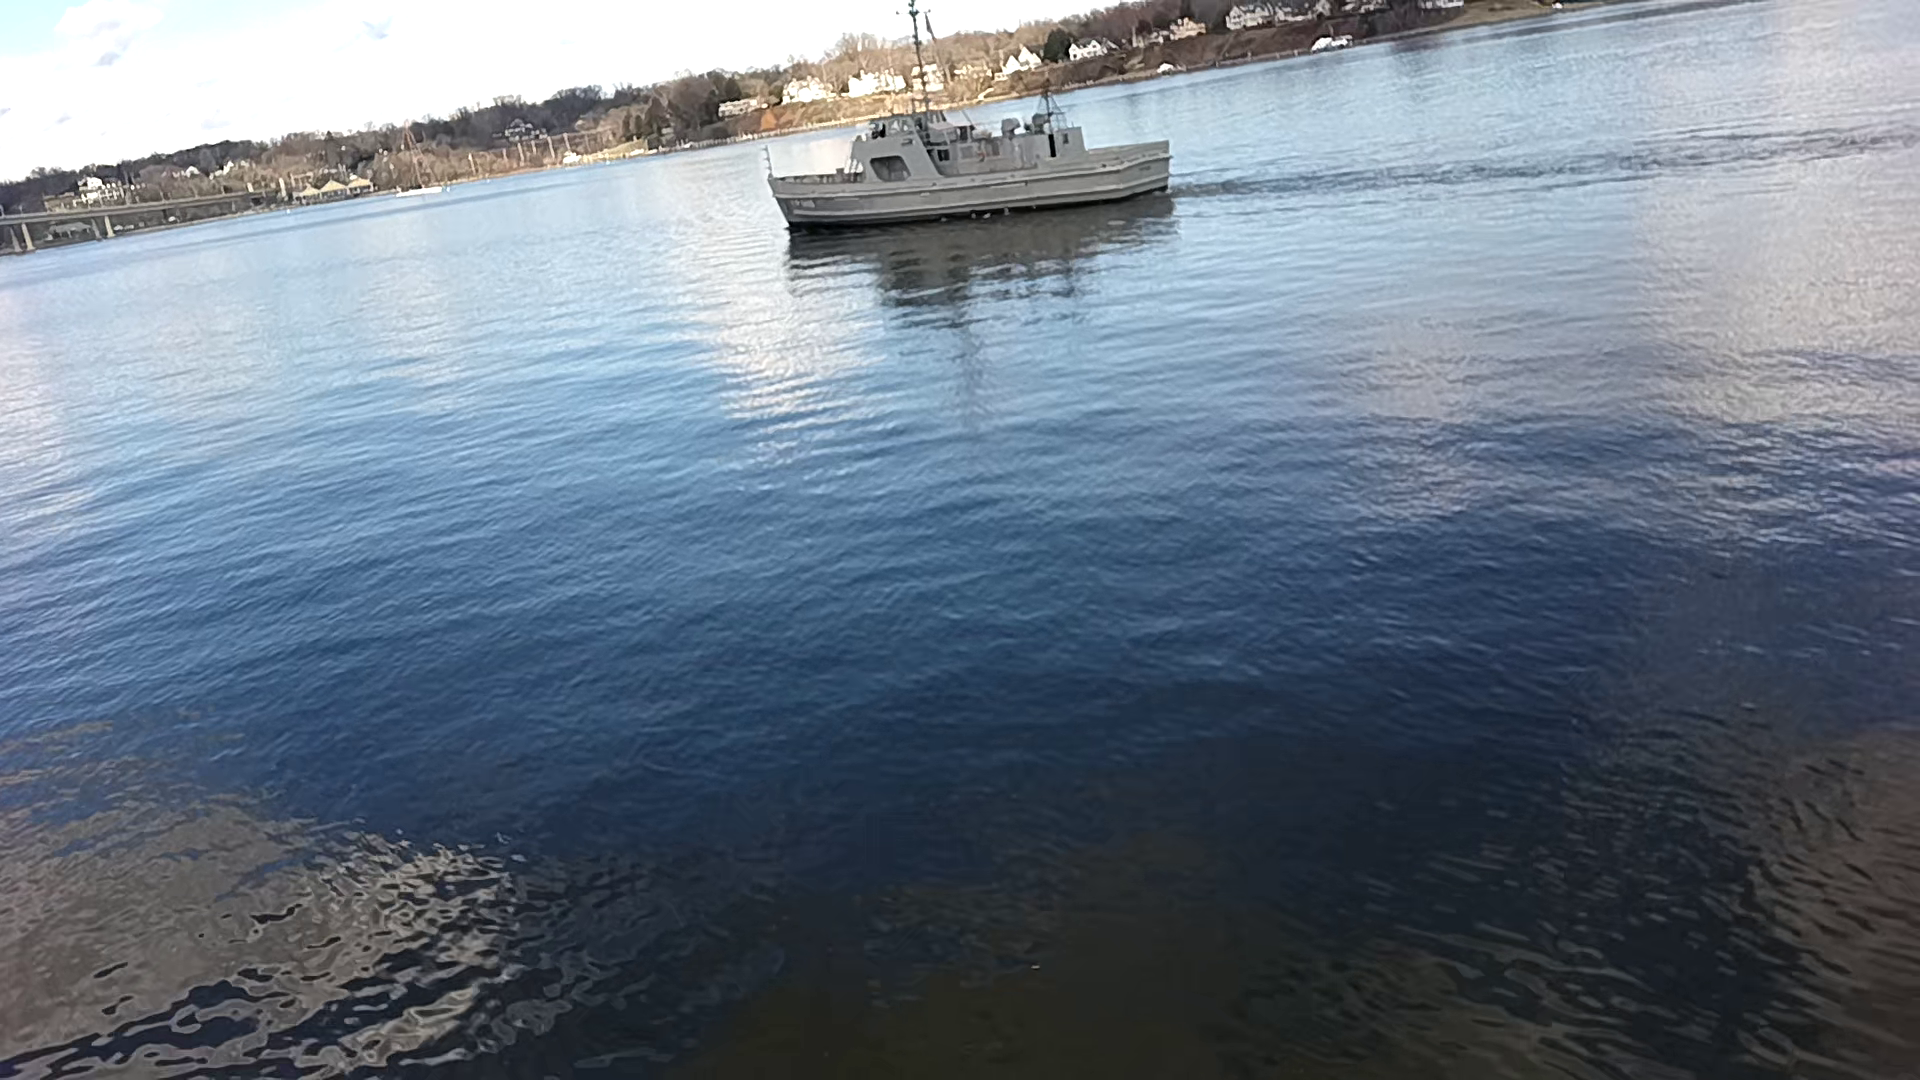YP689: (767, 0, 1172, 229)
